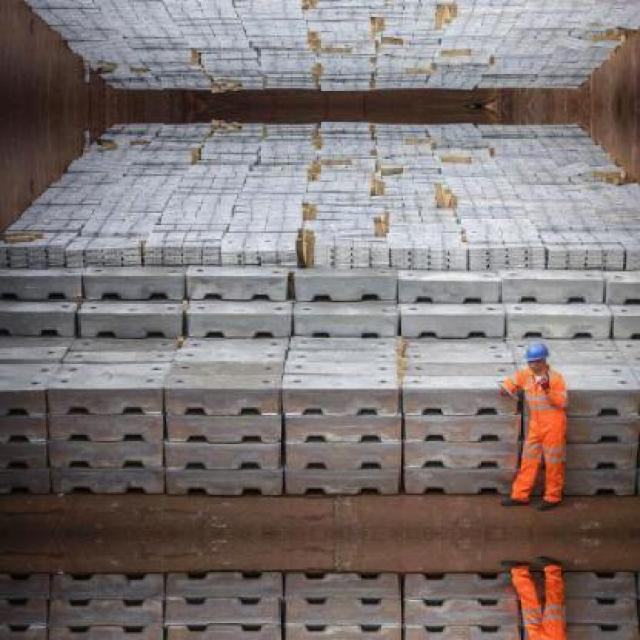Reflective-Jacket: (500, 370, 575, 507)
Safety-Helmet: (518, 338, 556, 367)
